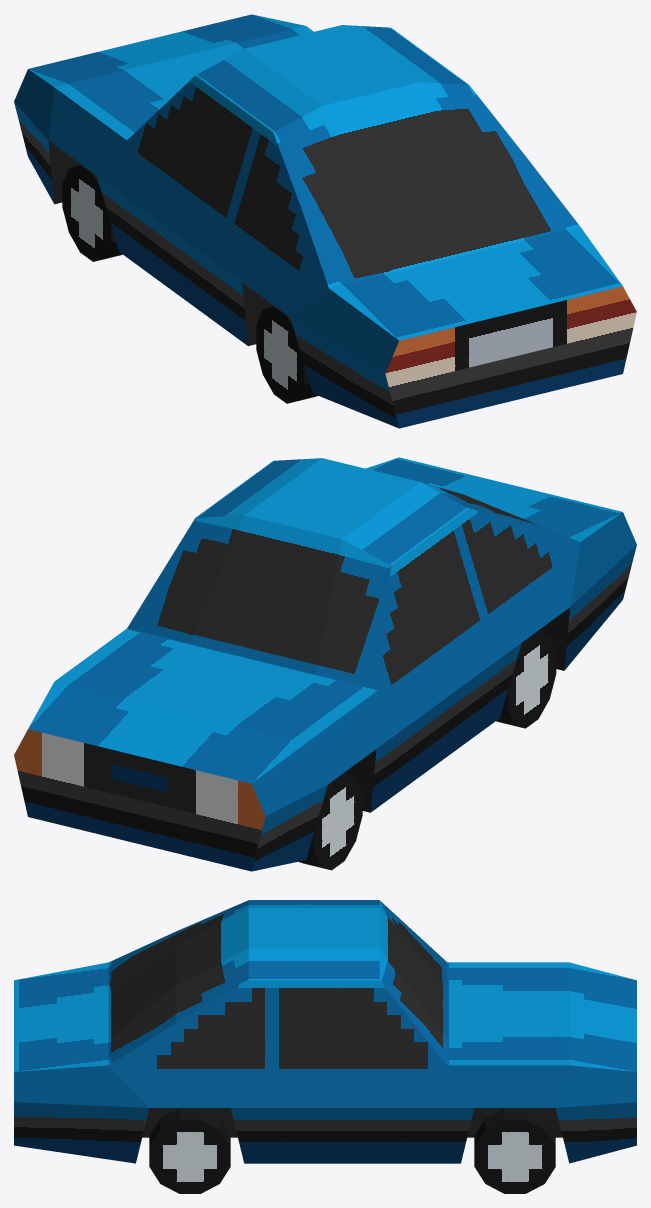
File: low_poly_car_1.glb
3 renders of one model, top to bottom at view 1: azimuth 30°, elevation 25°; view 2: azimuth 150°, elevation 25°; view 3: azimuth 270°, elevation 25°, orthographic. The views are drawn at different scales.
Parts seen in each view (by area): view 1: bodywork_5, left-rear-wheel_1, left-front-wheel_0; view 2: bodywork_5, left-front-wheel_0, left-rear-wheel_1; view 3: bodywork_5, right-rear-wheel_2, right-front-wheel_3.
Part boxes in pixels (x1,y1,x2,y2): bodywork_5: (14,14,636,428); left-rear-wheel_1: (256,306,318,403); left-front-wheel_0: (62,164,122,261); bodywork_5: (14,457,636,871); left-front-wheel_0: (298,773,362,870); left-rear-wheel_1: (496,631,556,728); bodywork_5: (14,900,636,1163); right-rear-wheel_2: (149,1108,230,1193); right-front-wheel_3: (474,1108,555,1193).
Size of the model in its own units: 1.25 by 1.06 by 2.88.
2 materials, 2 textured.
